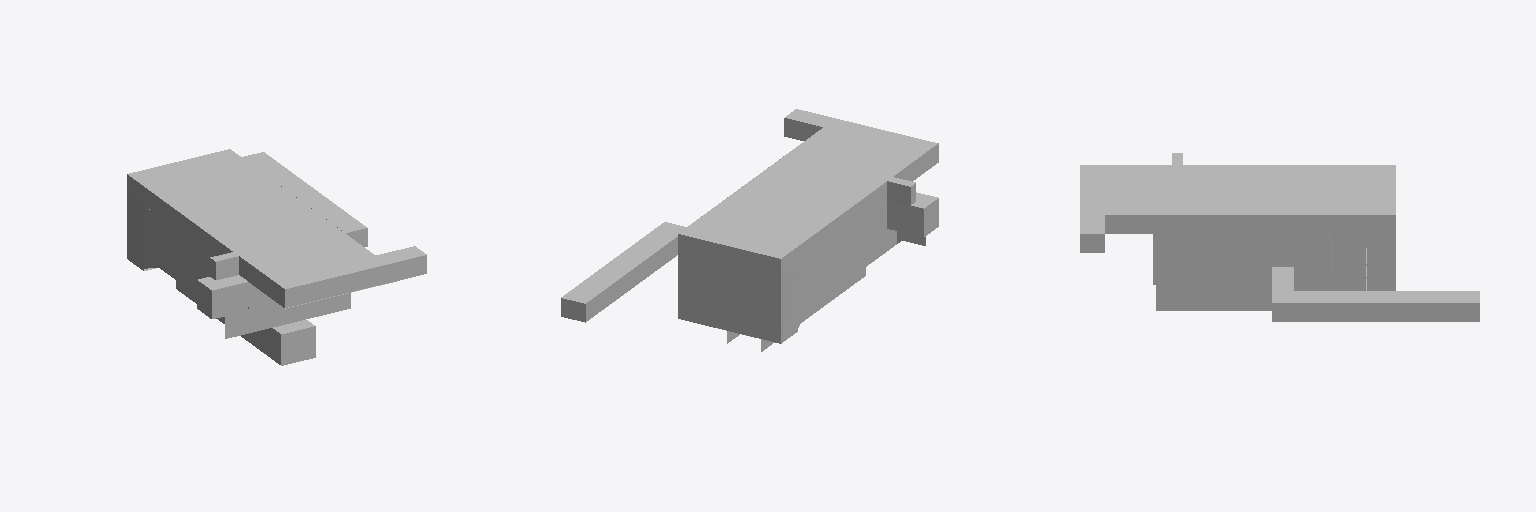
File: EntrerCegep.obj
The picture shows the model from 3 angles: view 1: azimuth 30°, elevation 25°; view 2: azimuth 150°, elevation 25°; view 3: azimuth 270°, elevation 25°; orthographic projection.
Visible parts, largest first — view 1: EntreCegep; view 2: EntreCegep; view 3: EntreCegep.
Boxes of the visible parts, box(x1,y1,x2,y2) form: EntreCegep: box(127, 149, 426, 365); EntreCegep: box(561, 109, 938, 351); EntreCegep: box(1080, 153, 1479, 321).
Size of the model in its own units: 32.8 by 16.56 by 52.75.